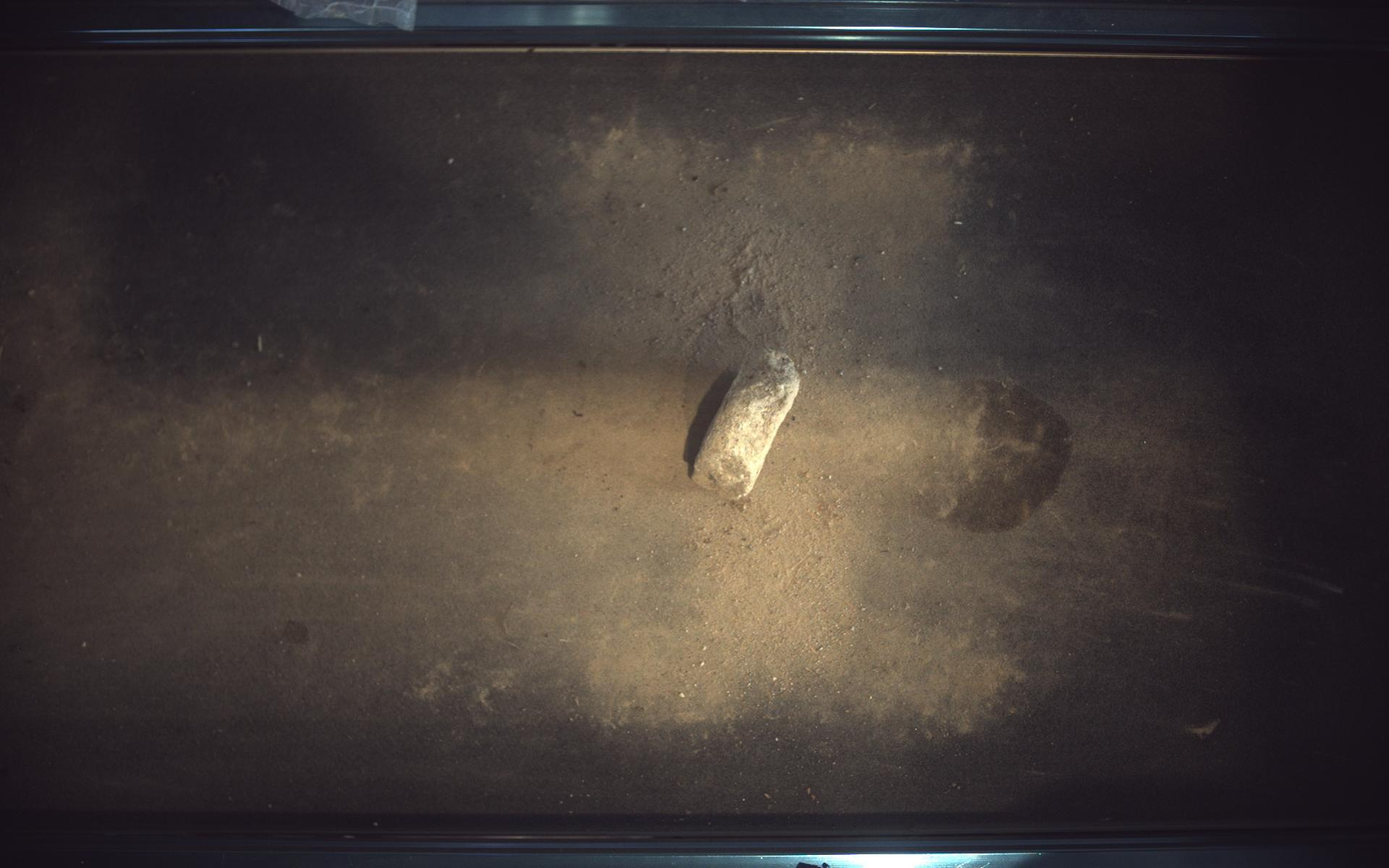stone: (693, 351, 801, 500)
